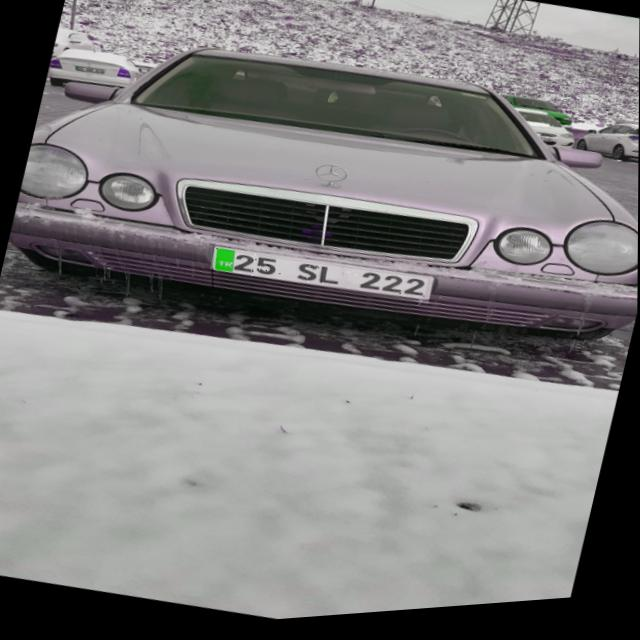license_plate: (209, 234, 434, 323)
